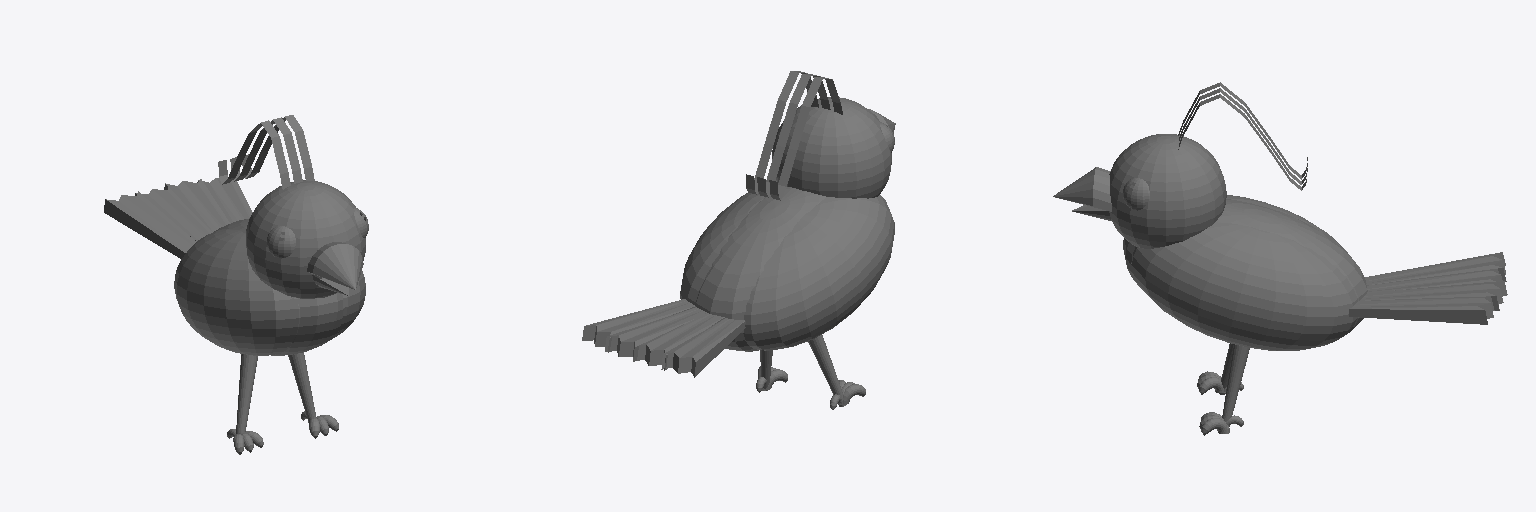
The model's file is Pidgeotto.obj.
The picture shows the model from 3 angles: view 1: azimuth 30°, elevation 25°; view 2: azimuth 150°, elevation 25°; view 3: azimuth 270°, elevation 25°; orthographic projection.
Parts seen in each view (by area): view 1: polySurface1, pSphere8, loftedSurface4, pCylinder4, polySurface12, pSphere9; view 2: polySurface1, pSphere8, loftedSurface4, polySurface12, pCylinder4; view 3: polySurface1, pSphere8, loftedSurface4, polySurface12, pCylinder4, pSphere9.
Part boxes in pixels (left/top/right/bottom): polySurface1: left=174, top=229, right=365, bottom=355; pSphere8: left=214, top=180, right=365, bottom=355; loftedSurface4: left=104, top=115, right=314, bottom=258; pCylinder4: left=227, top=242, right=363, bottom=454; polySurface12: left=135, top=178, right=252, bottom=240; pSphere9: left=267, top=208, right=368, bottom=257; polySurface1: left=680, top=181, right=894, bottom=350; pSphere8: left=695, top=97, right=891, bottom=351; loftedSurface4: left=605, top=71, right=842, bottom=377; polySurface12: left=582, top=299, right=724, bottom=370; pCylinder4: left=756, top=109, right=895, bottom=409; polySurface1: left=1131, top=195, right=1357, bottom=350; pSphere8: left=1109, top=134, right=1367, bottom=336; loftedSurface4: left=1178, top=82, right=1507, bottom=310; polySurface12: left=1349, top=267, right=1502, bottom=324; pCylinder4: left=1053, top=167, right=1249, bottom=435; pSphere9: left=1123, top=178, right=1149, bottom=210.
Bounding box in the file's own units: 3.11 × 5.87 × 7.49.